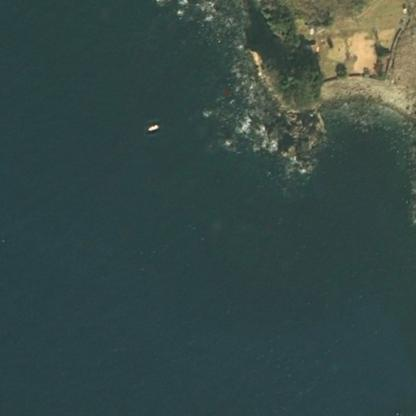ship: (149, 124, 157, 131)
